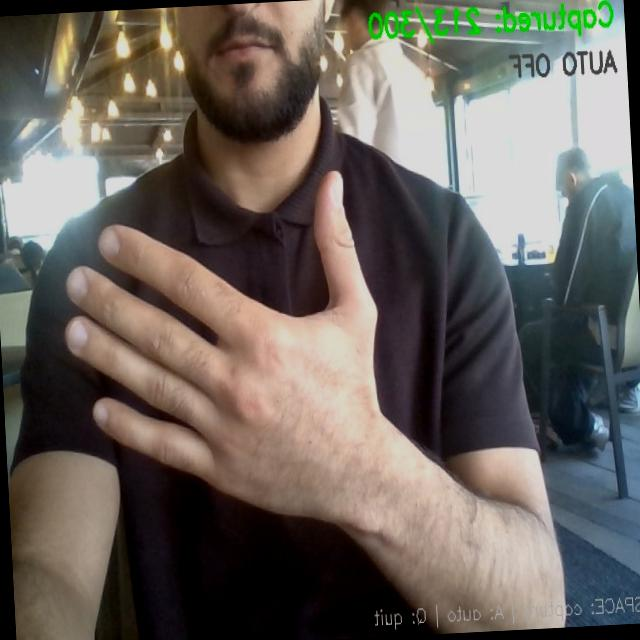Hand: (66, 173, 392, 521)
